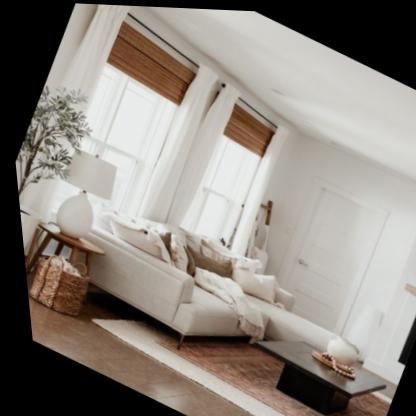Curtains: (56, 4, 221, 223), (162, 78, 291, 250)
Wooden floor: (22, 295, 247, 416)
